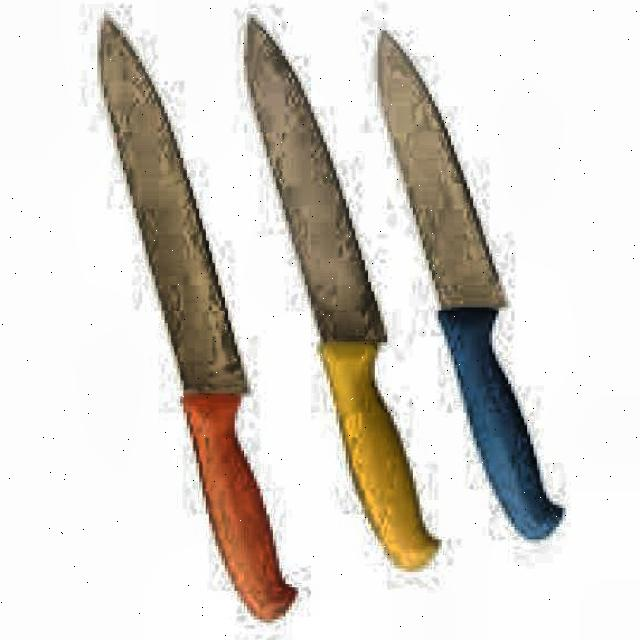knife: (96, 9, 305, 627), (236, 15, 452, 576), (368, 14, 574, 549)
